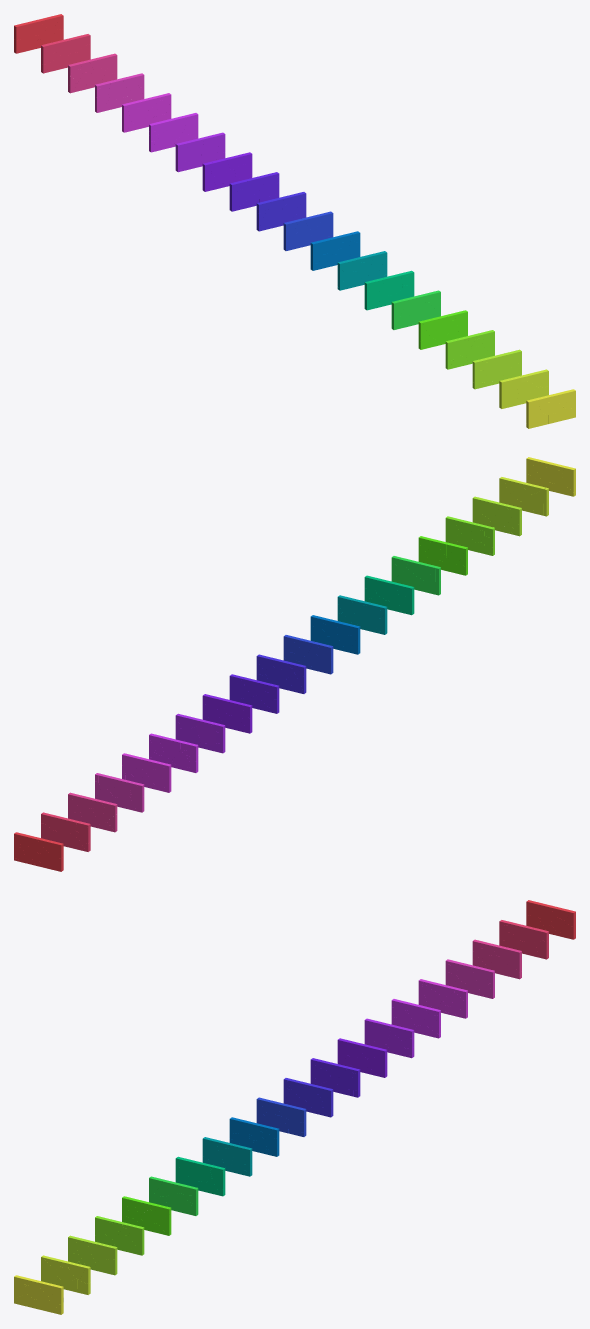
Rendered from Colorfullwalls.fbx.
The picture shows the model from 3 angles, top to bottom: view 1: azimuth 30°, elevation 25°; view 2: azimuth 150°, elevation 25°; view 3: azimuth 330°, elevation 25°; orthographic projection.
Bounding box in the file's own units: 506 × 273 × 9541.
Materials: 1 (1 with a texture image).
